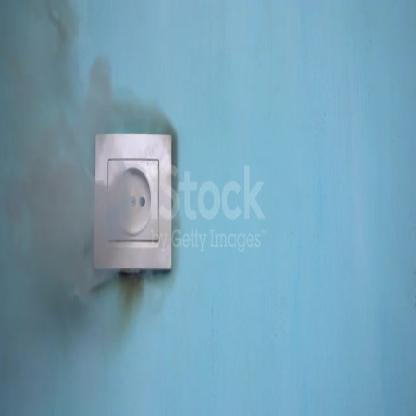smoke: (6, 0, 179, 405)
